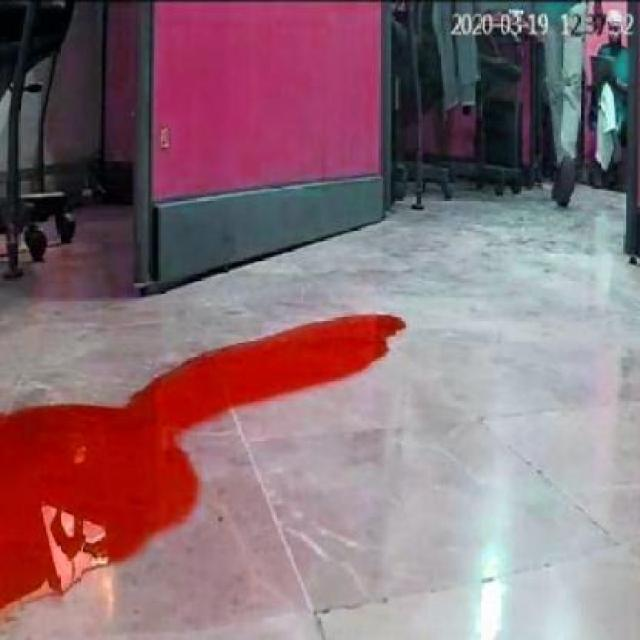spillage: (0, 315, 406, 614)
